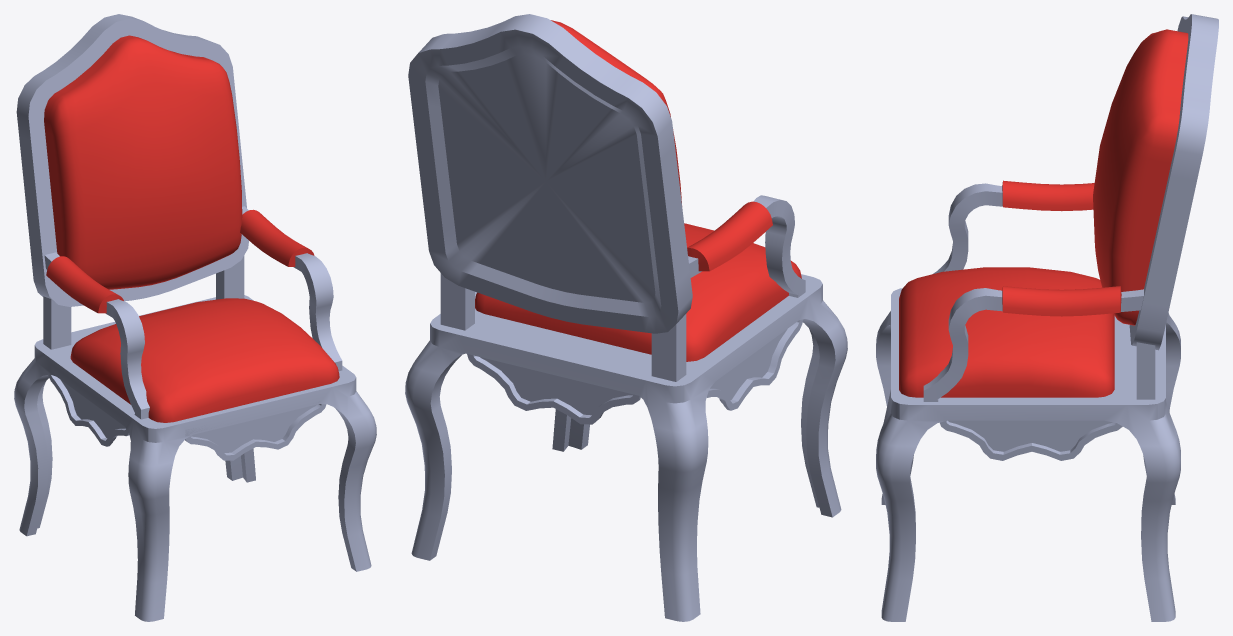
Rendered from SM_Blockout_Chair_01.fbx.
3 renders of one model, left to right at view 1: azimuth 30°, elevation 25°; view 2: azimuth 150°, elevation 25°; view 3: azimuth 270°, elevation 25°, orthographic. The views are drawn at different scales.
Visible parts, largest first — view 1: Chair_01; view 2: Chair_01; view 3: Chair_01.
Part boxes in pixels (left/top/right/bottom): Chair_01: left=14, top=14, right=376, bottom=621; Chair_01: left=405, top=14, right=847, bottom=621; Chair_01: left=876, top=14, right=1218, bottom=621.
Bounding box in the file's own units: 80.95 × 154 × 88.94.
